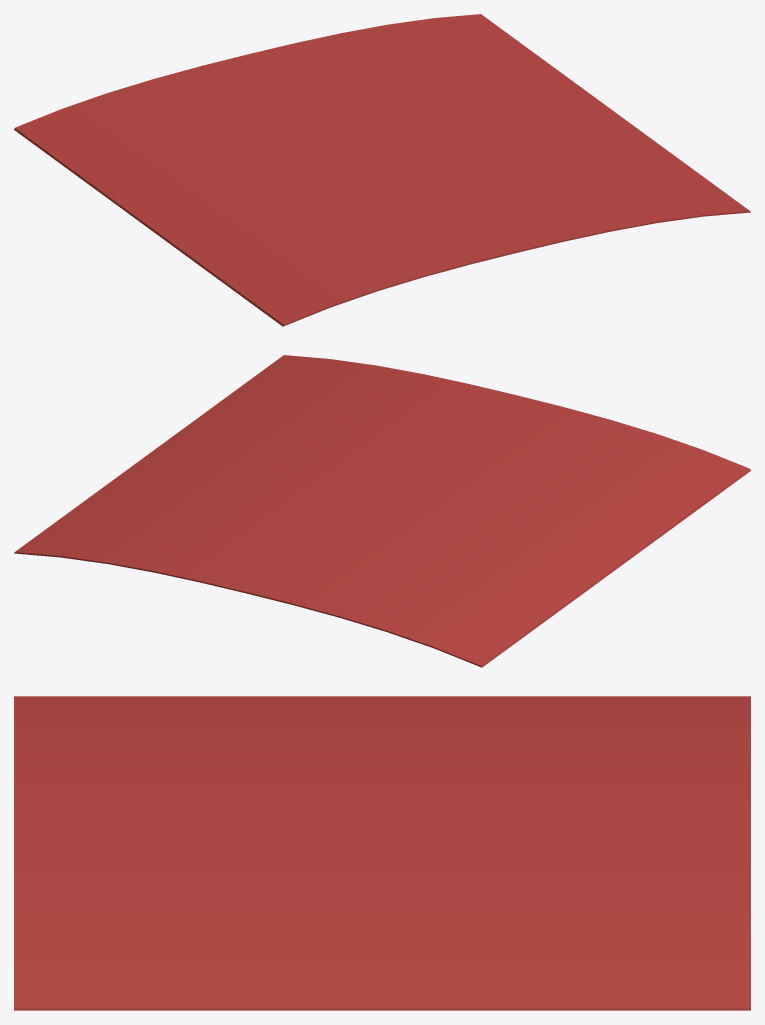
Rendered from steel.glb.
The picture shows the model from 3 angles, top to bottom: view 1: azimuth 30°, elevation 25°; view 2: azimuth 150°, elevation 25°; view 3: azimuth 270°, elevation 25°; orthographic projection. The views are drawn at different scales.
Parts seen in each view (by area): view 1: lod0; view 2: lod0; view 3: lod0.
Part boxes in pixels (left/top/right/bottom): lod0: left=14, top=14, right=750, bottom=326; lod0: left=14, top=355, right=750, bottom=667; lod0: left=14, top=696, right=750, bottom=1010.
Size of what is drawn, in the model's own units: 1 by 0.0379 by 1.
